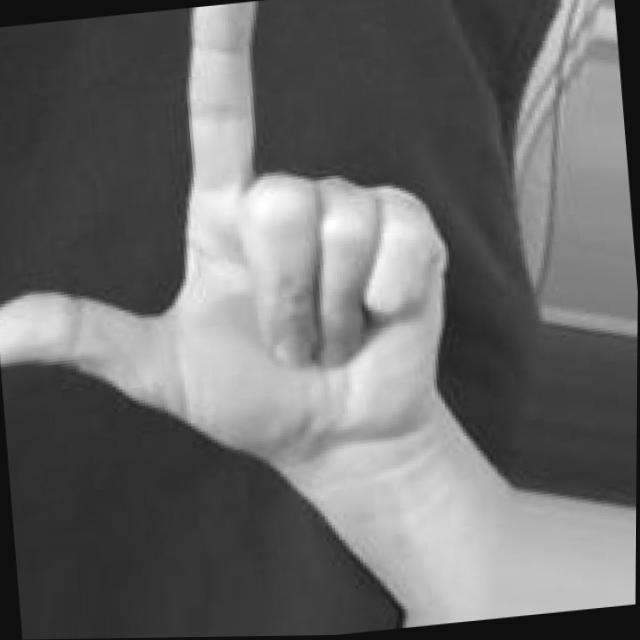L: (0, 0, 469, 485)
